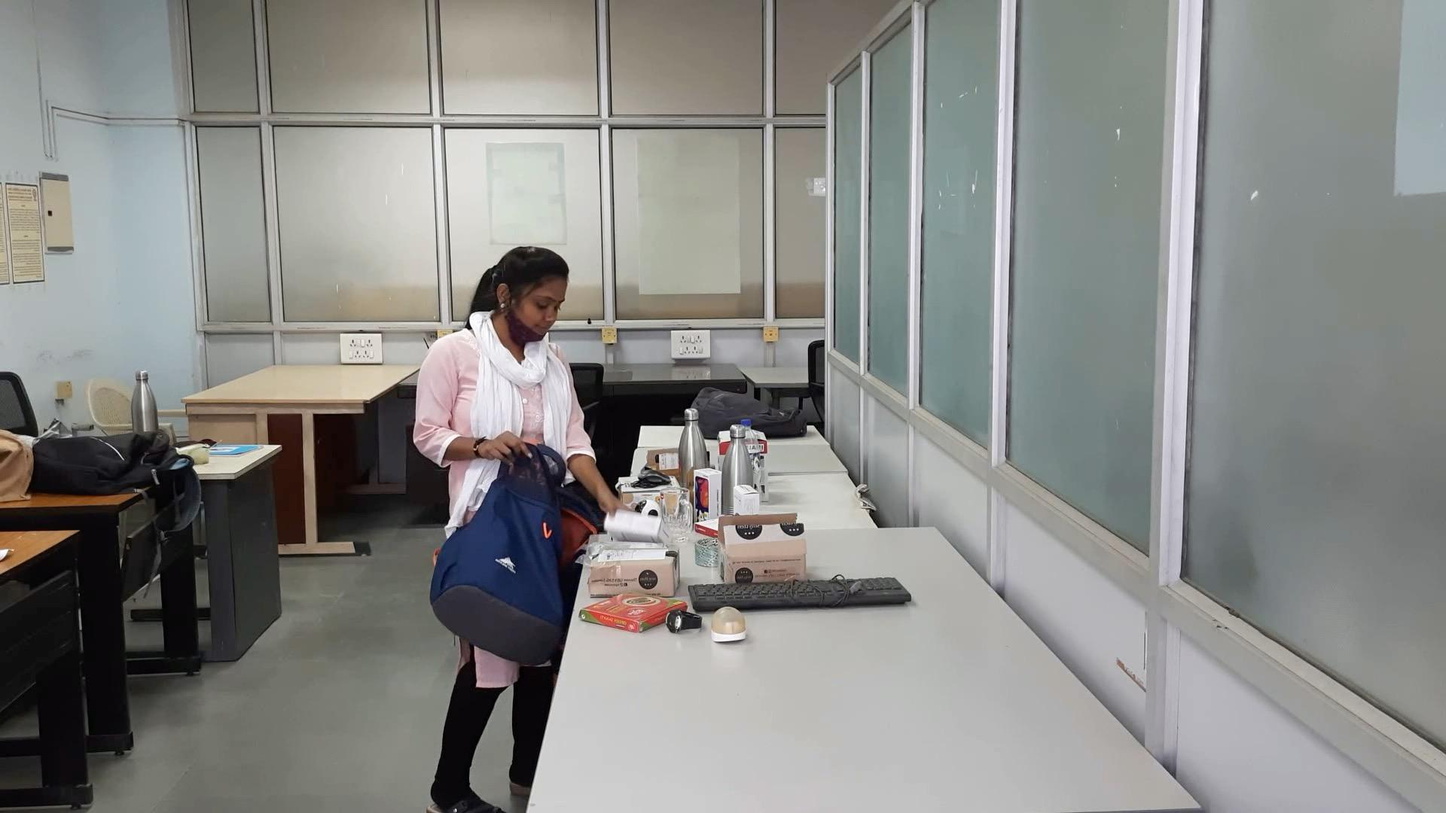shoplifting: (393, 397, 732, 700)
